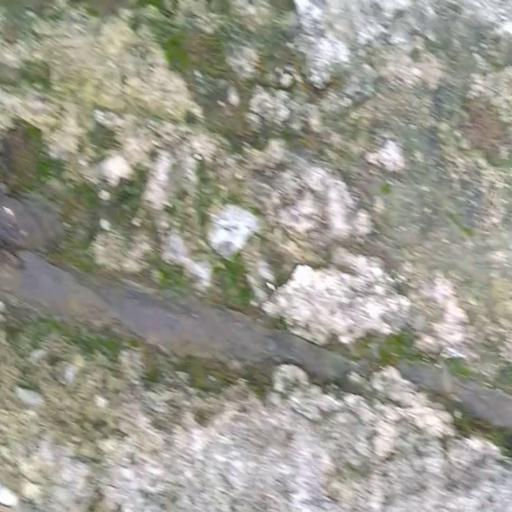spalling: (0, 164, 512, 465)
